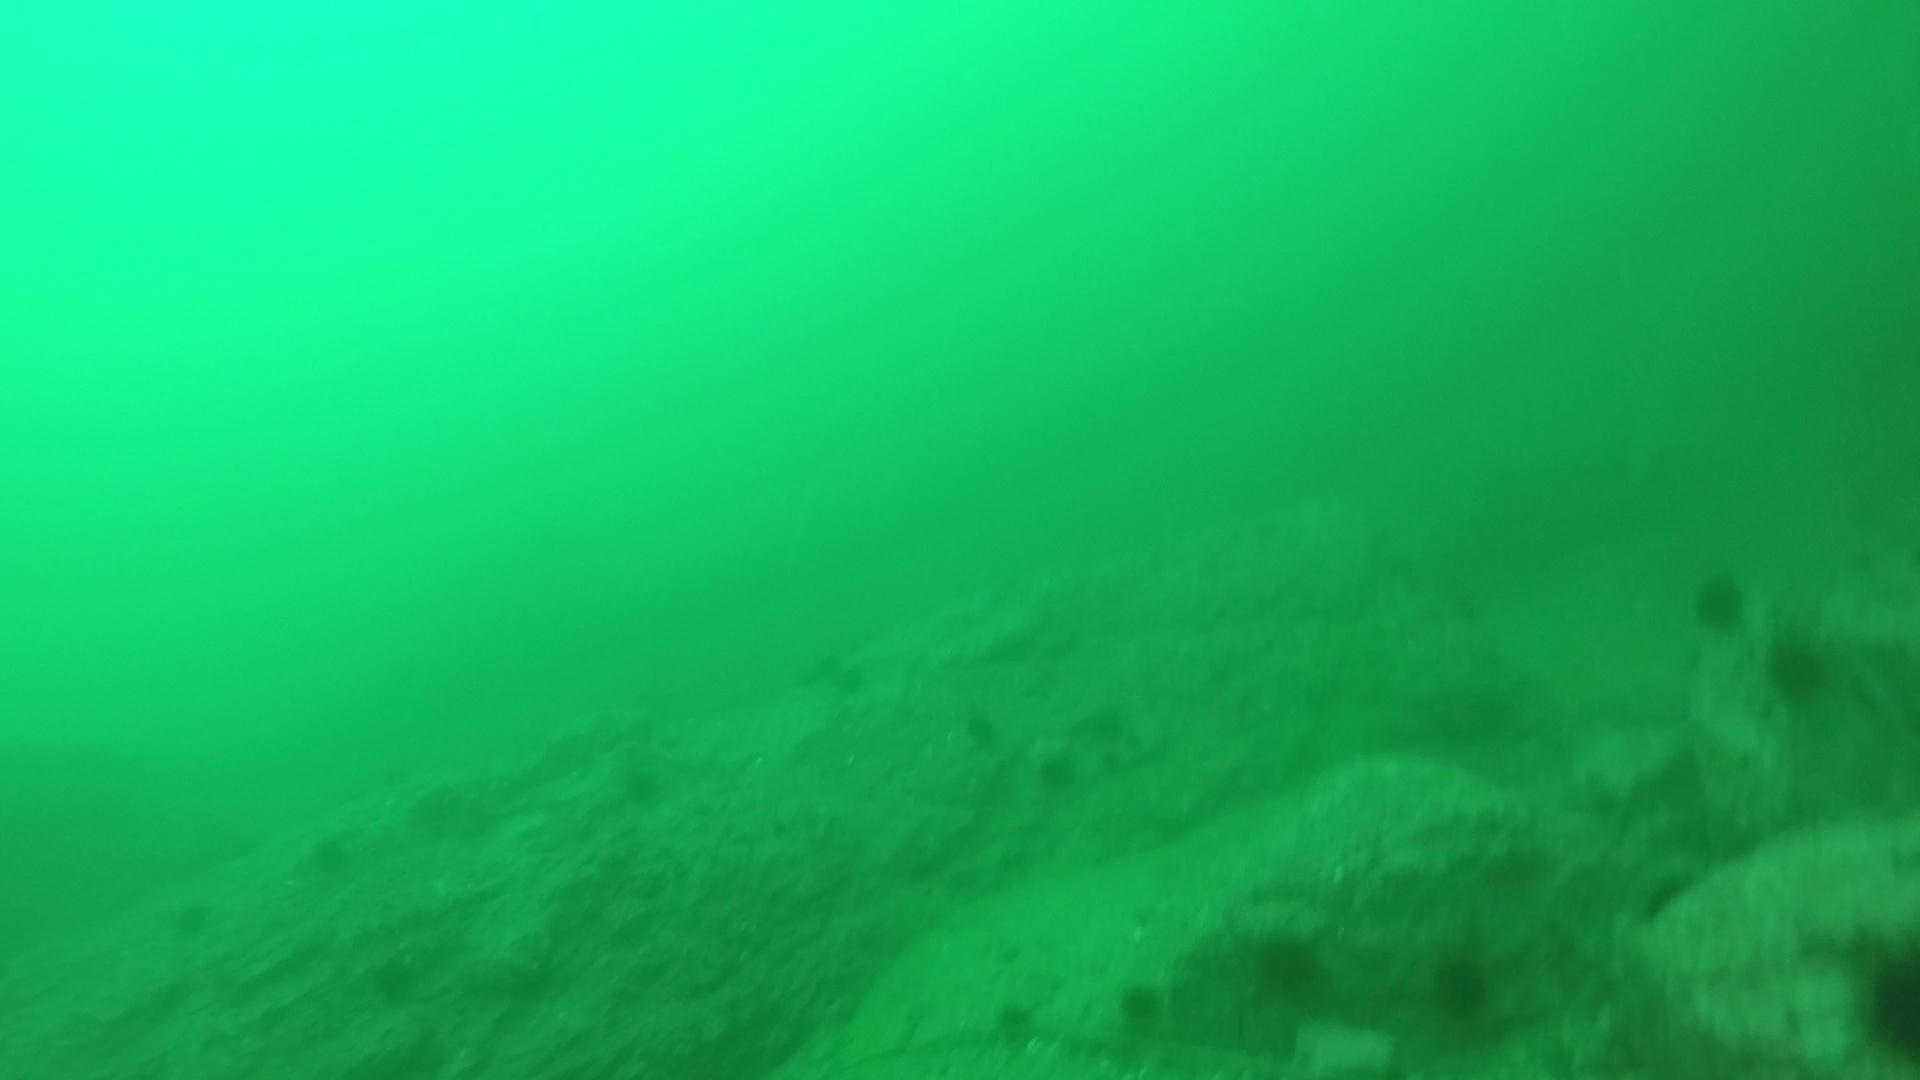echinus: (1851, 943, 1919, 1065), (1245, 922, 1331, 1002), (1424, 943, 1502, 1023), (1760, 626, 1837, 707), (1687, 566, 1753, 636), (1112, 977, 1170, 1033), (376, 951, 427, 1004), (1440, 578, 1491, 630), (612, 757, 663, 808), (297, 829, 348, 881), (164, 894, 215, 945), (1033, 746, 1083, 798), (957, 708, 1007, 760), (833, 661, 878, 704), (800, 647, 844, 691)
